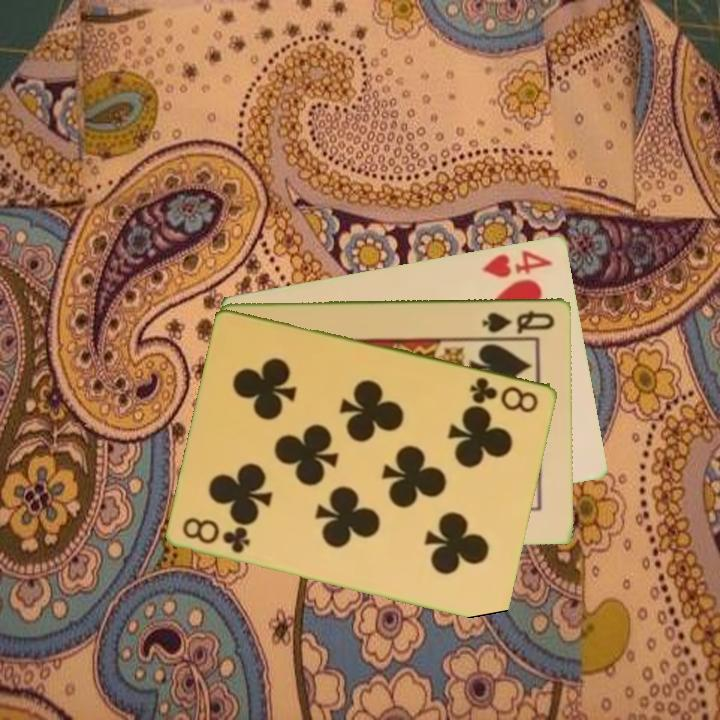4h: (479, 246, 555, 280)
8c: (466, 373, 542, 416), (179, 514, 254, 556)
Qs: (479, 307, 558, 335)
